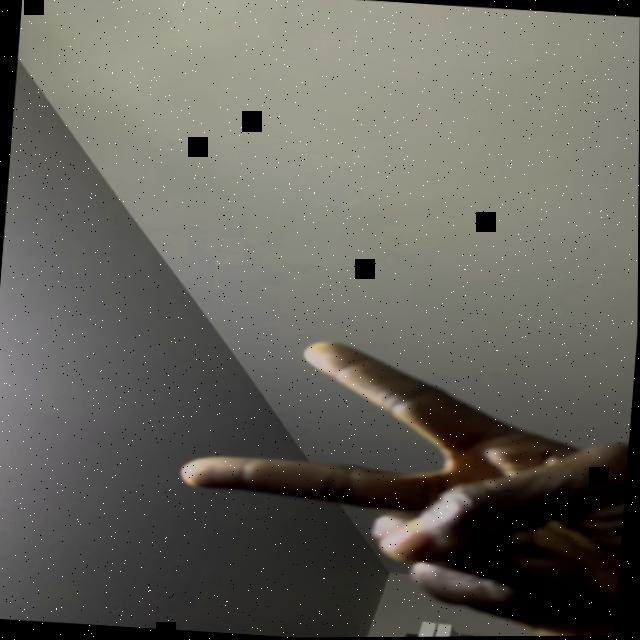Scissors: (163, 325, 636, 639)
